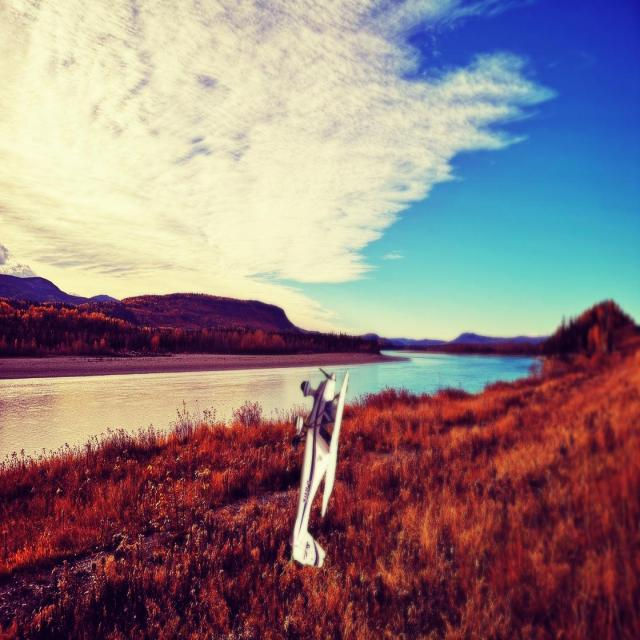airplane: (288, 367, 349, 568)
